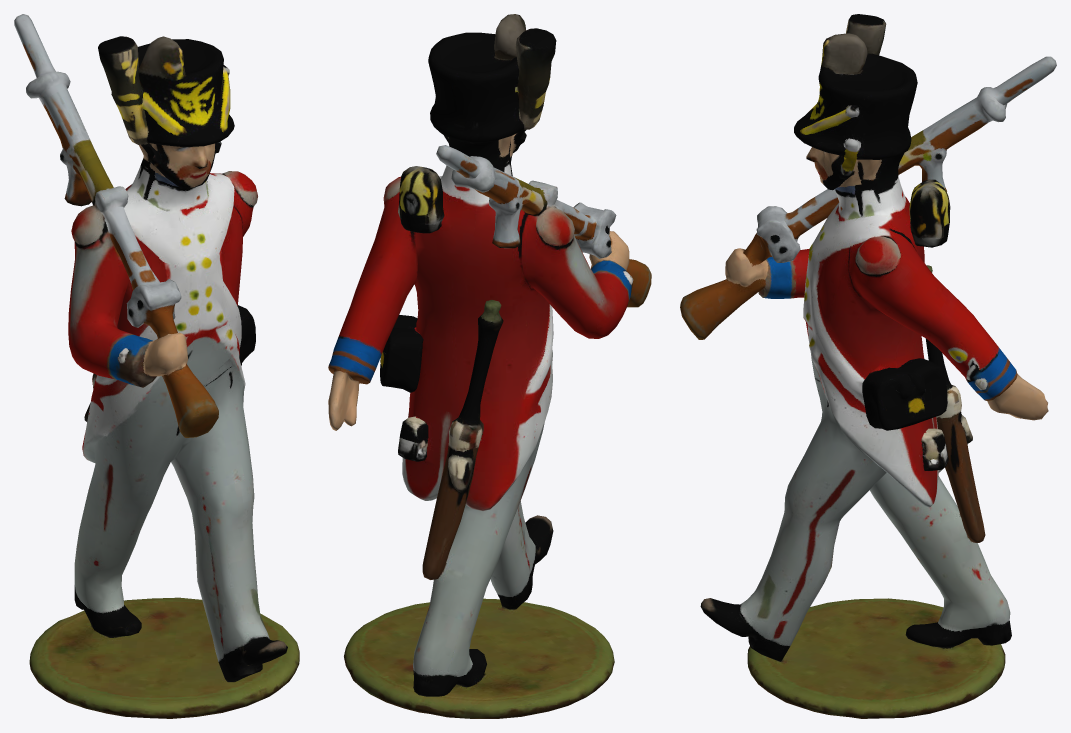
The model's file is inf_march.glb.
3 renders of one model, left to right at view 1: azimuth 30°, elevation 25°; view 2: azimuth 150°, elevation 25°; view 3: azimuth 270°, elevation 25°, orthographic. The views are drawn at different scales.
Parts seen in each view (by area): view 1: world; view 2: world; view 3: world.
Boxes of the visible parts, x1,y1,x2,y2 form: world: (14,14,299,718); world: (328,14,651,718); world: (680,14,1056,718).
Bounding box in the file's own units: 0.3868 × 1 × 0.549.
1 material, 1 textured.
